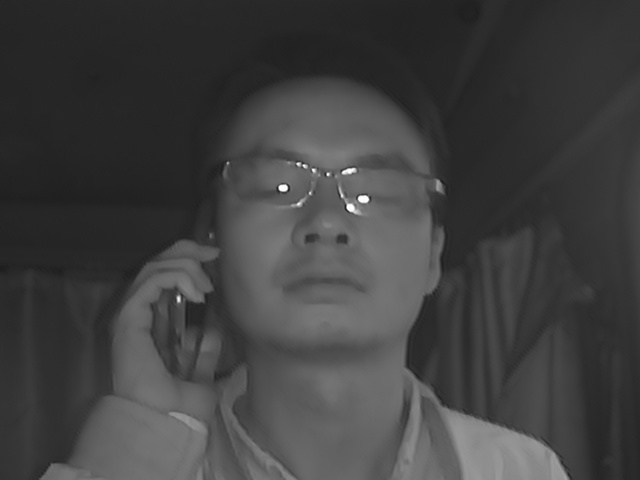hand: (105, 236, 228, 420)
